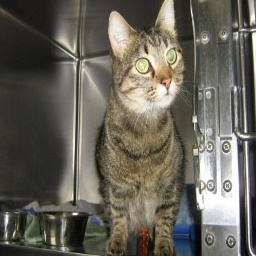cat: (96, 0, 188, 256)
